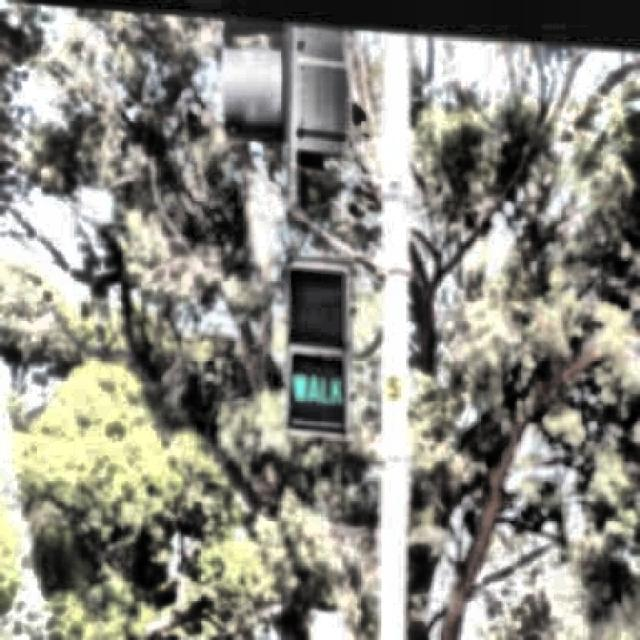semaforo pedestre: (264, 242, 378, 448)
